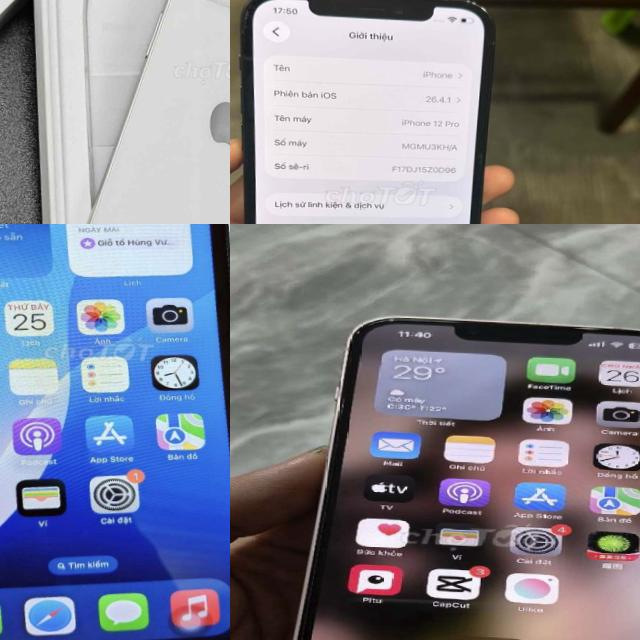gen_12_13: (273, 302, 640, 640), (230, 0, 516, 224)
gen_14: (71, 0, 230, 224)
gen_x_xs: (0, 224, 230, 640)
